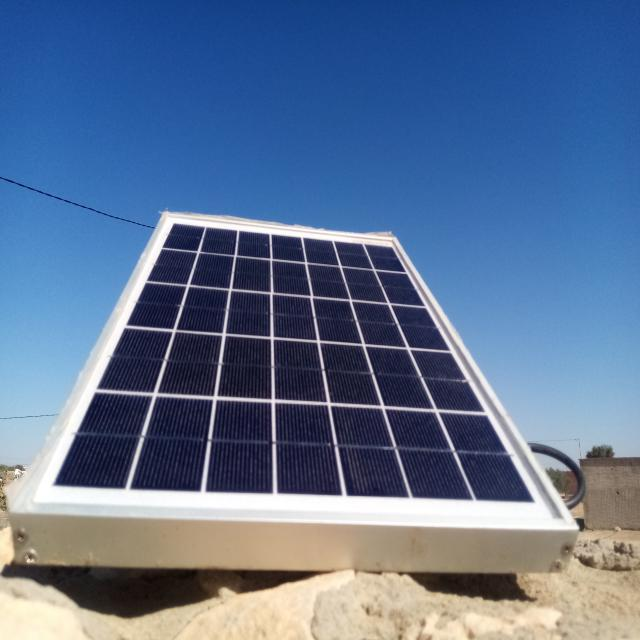no faulty: (15, 213, 577, 533)
